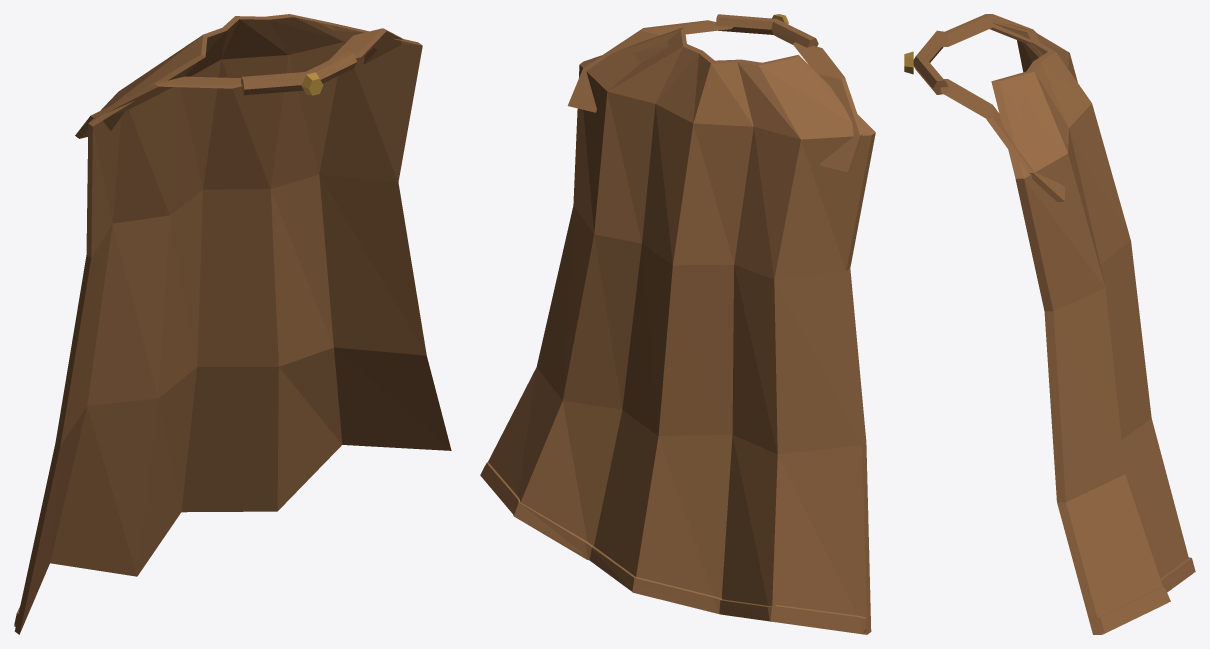
File: leather_back-female.glb
The picture shows the model from 3 angles, left to right: view 1: azimuth 30°, elevation 25°; view 2: azimuth 150°, elevation 25°; view 3: azimuth 270°, elevation 25°; orthographic projection. The views are drawn at different scales.
Parts seen in each view (by area): view 1: leather draped back mantle, Mantle neck fastening, Mantle shoulder fall -1, Mantle shoulder fall 1; view 2: leather draped back mantle, Mantle weighted bound hem, Mantle shoulder fall -1, Mantle shoulder fall 1, Mantle neck fastening; view 3: leather draped back mantle, Mantle shoulder fall 1, Mantle weighted bound hem, Mantle shoulder fall -1, Mantle neck fastening.
Boxes of the visible parts, box(x1,y1,x2,y2) form: leather draped back mantle: box(14, 14, 451, 634); Mantle neck fastening: box(241, 51, 356, 95); Mantle shoulder fall -1: box(75, 76, 242, 138); Mantle shoulder fall 1: box(329, 28, 402, 64); leather draped back mantle: box(484, 27, 875, 634); Mantle weighted bound hem: box(480, 462, 867, 633); Mantle shoulder fall -1: box(793, 42, 863, 172); Mantle shoulder fall 1: box(567, 20, 733, 112); Mantle neck fastening: box(716, 14, 818, 47); leather draped back mantle: box(991, 22, 1192, 634); Mantle shoulder fall 1: box(940, 79, 1064, 201); Mantle weighted bound hem: box(1095, 557, 1195, 632); Mantle shoulder fall -1: box(942, 14, 1041, 57); Mantle neck fastening: box(913, 30, 948, 94).
Bounding box in the file's own units: 2.59 × 3.32 × 1.6.
